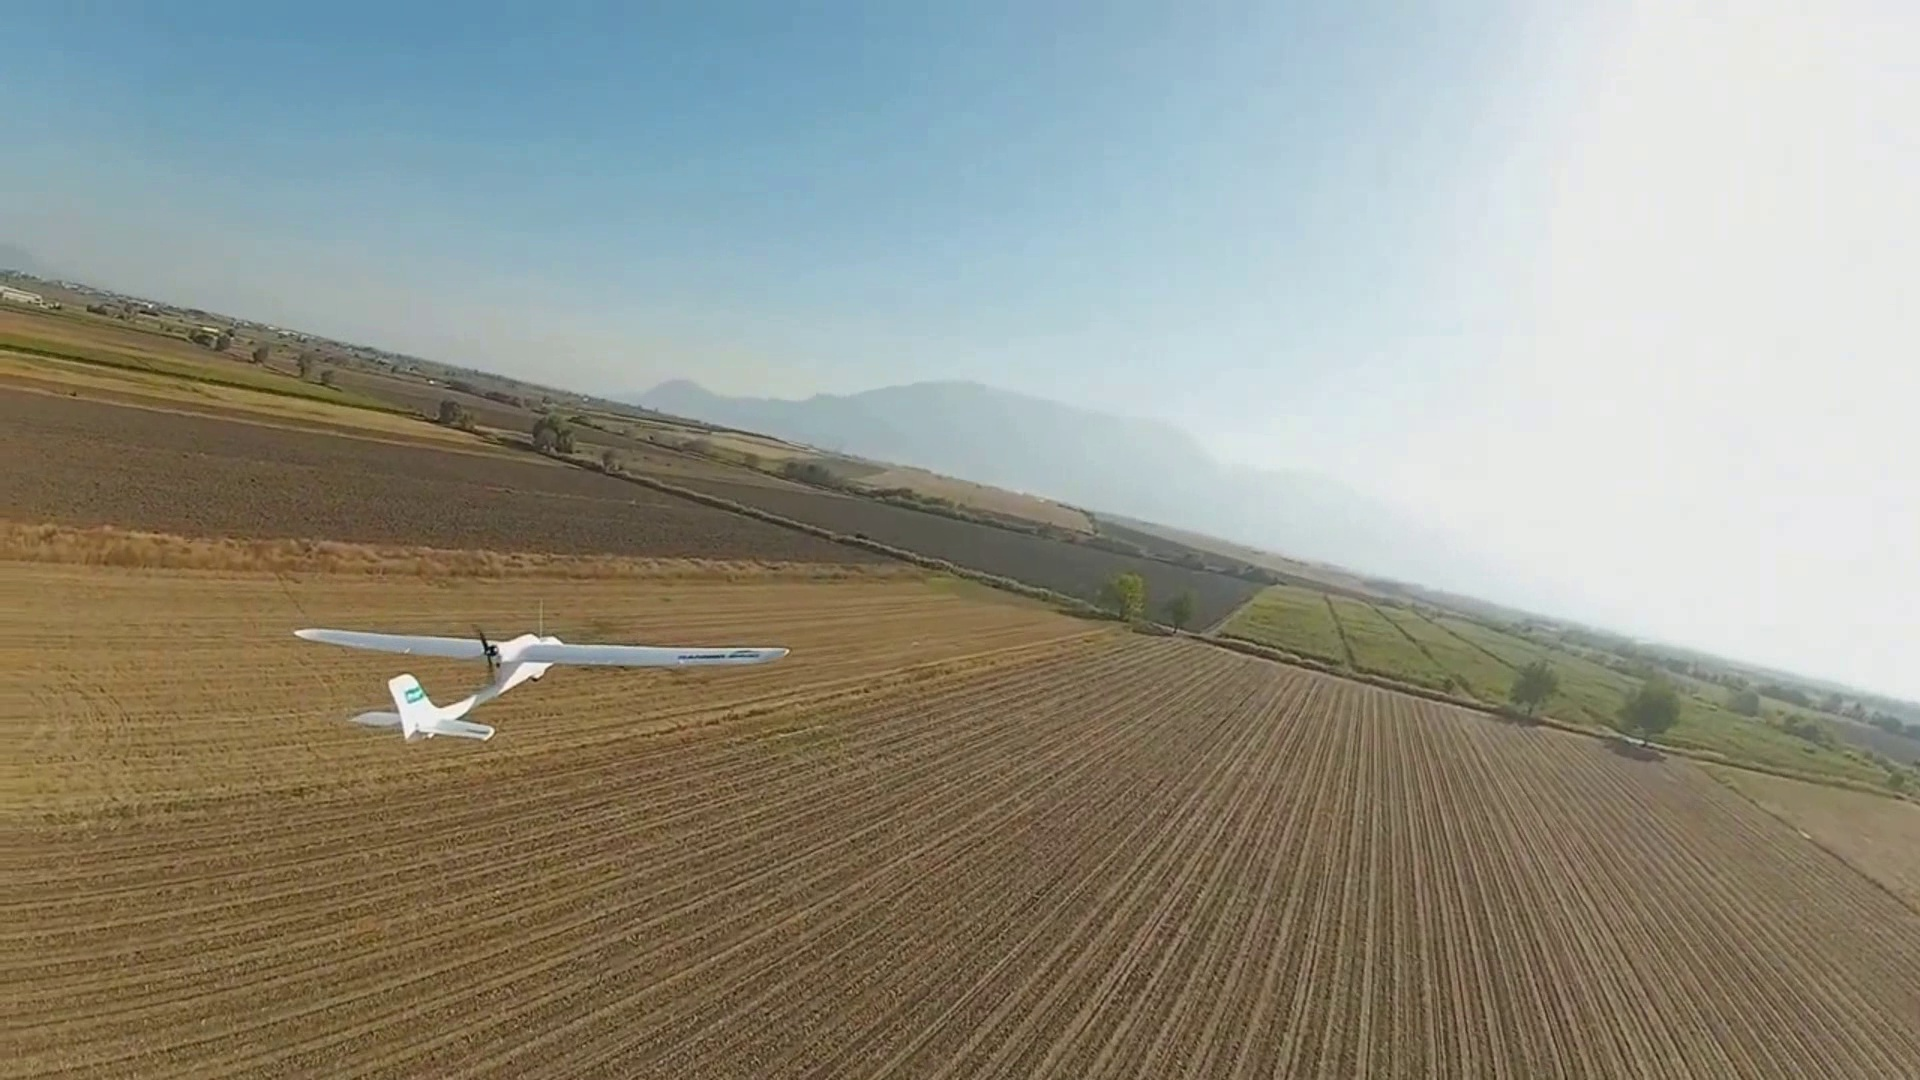airplane: (290, 619, 795, 744)
